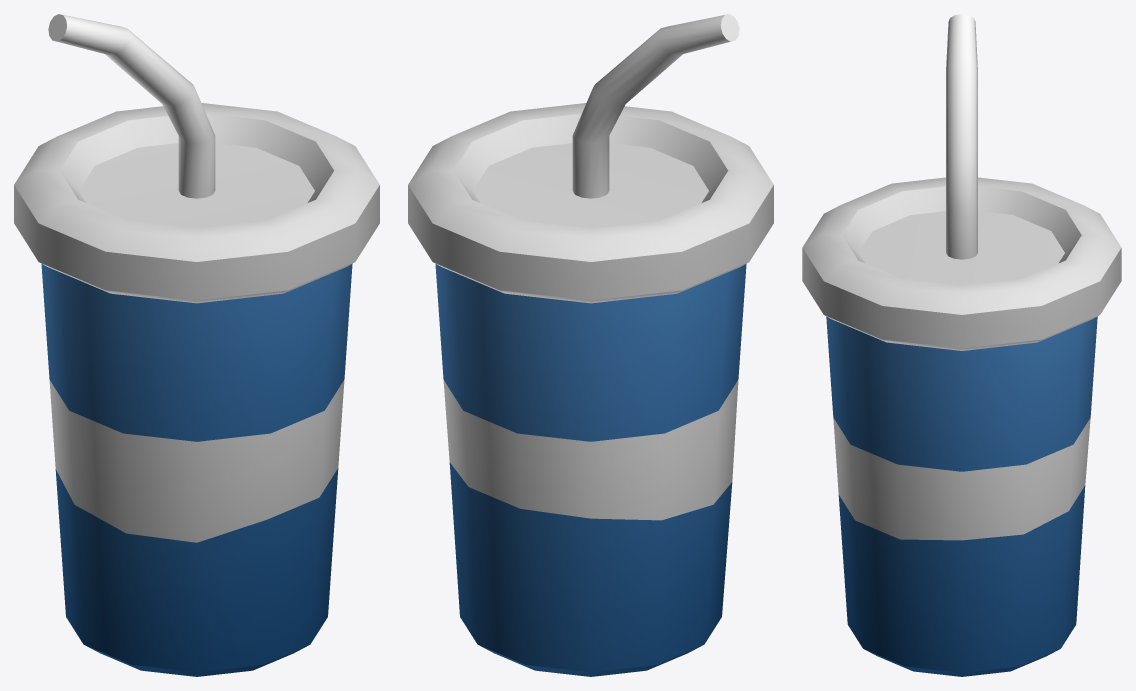
The model's file is Juice Cup_6.fbx.
The picture shows the model from 3 angles, left to right: view 1: azimuth 30°, elevation 25°; view 2: azimuth 150°, elevation 25°; view 3: azimuth 270°, elevation 25°; orthographic projection. The views are drawn at different scales.
Visible parts, largest first — view 1: Juice Cup_6, Juice Cup_6 Top; view 2: Juice Cup_6, Juice Cup_6 Top; view 3: Juice Cup_6, Juice Cup_6 Top.
Boxes of the visible parts, bbox=[...] form: Juice Cup_6: bbox=[41, 264, 352, 676]; Juice Cup_6 Top: bbox=[14, 14, 379, 303]; Juice Cup_6: bbox=[435, 264, 746, 676]; Juice Cup_6 Top: bbox=[408, 14, 773, 303]; Juice Cup_6: bbox=[826, 316, 1097, 676]; Juice Cup_6 Top: bbox=[802, 14, 1121, 350].
Size of the model in its own units: 0.0776 by 0.1515 by 0.0776.
1 material, 1 textured.
